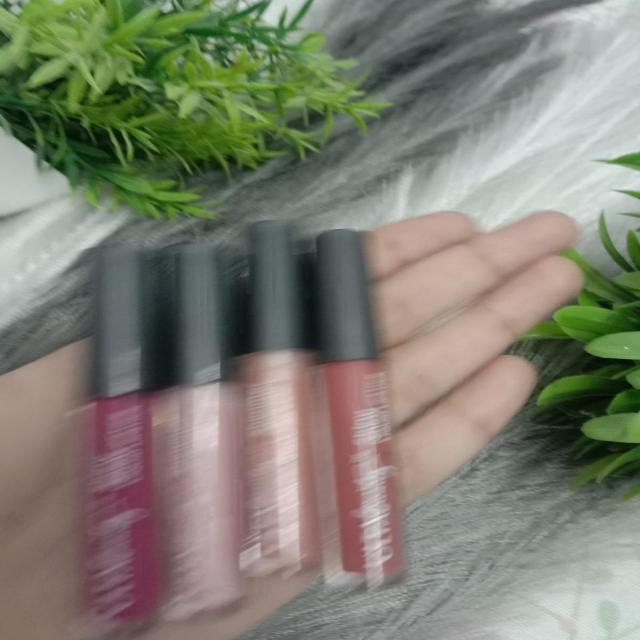lip gloss: (300, 221, 426, 607), (65, 226, 164, 640), (230, 206, 323, 604), (156, 229, 245, 623)
